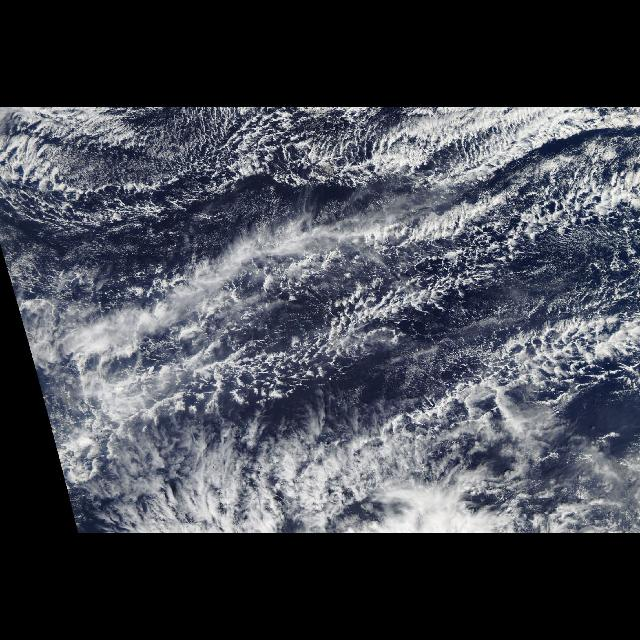Gravel: (16, 130, 640, 422)
